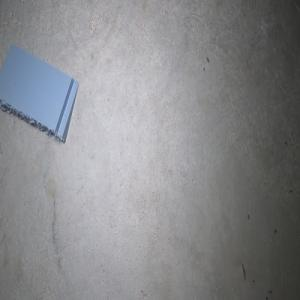PlasticPart: (0, 43, 79, 143)
